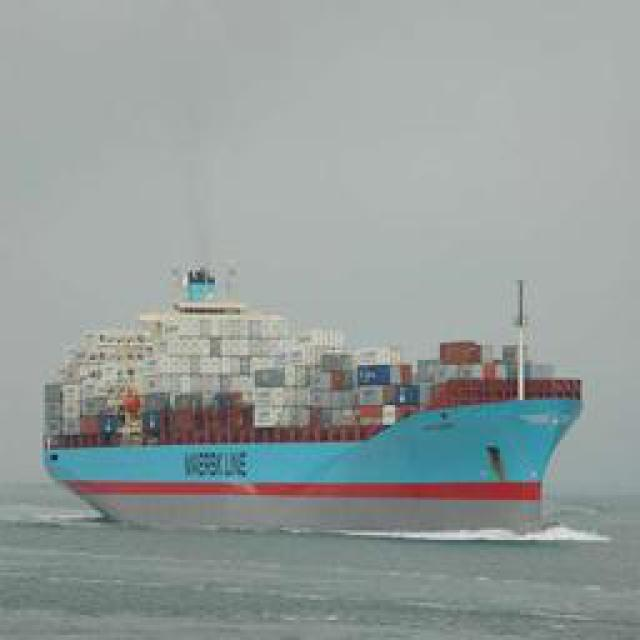Ship: (40, 278, 588, 533)
